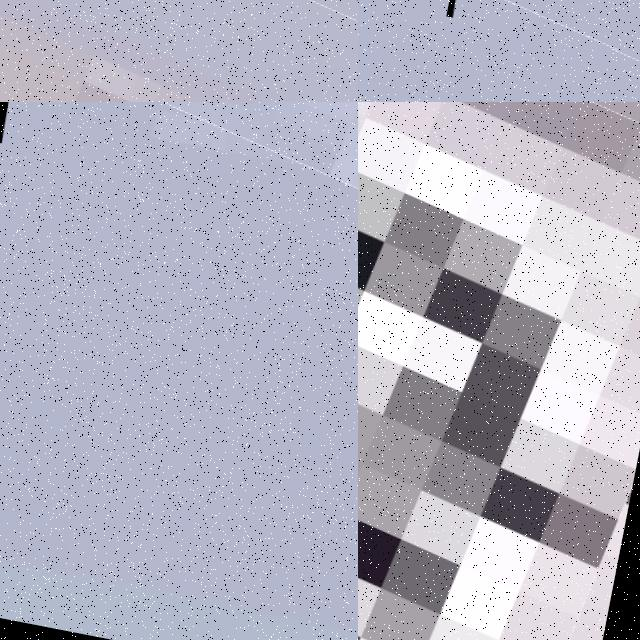drone: (358, 102, 640, 640), (0, 102, 358, 265), (0, 0, 358, 102), (446, 0, 640, 66)
